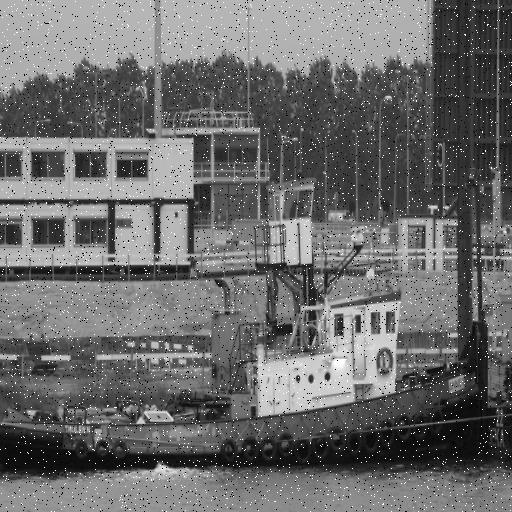tugboat: (1, 174, 495, 499)
